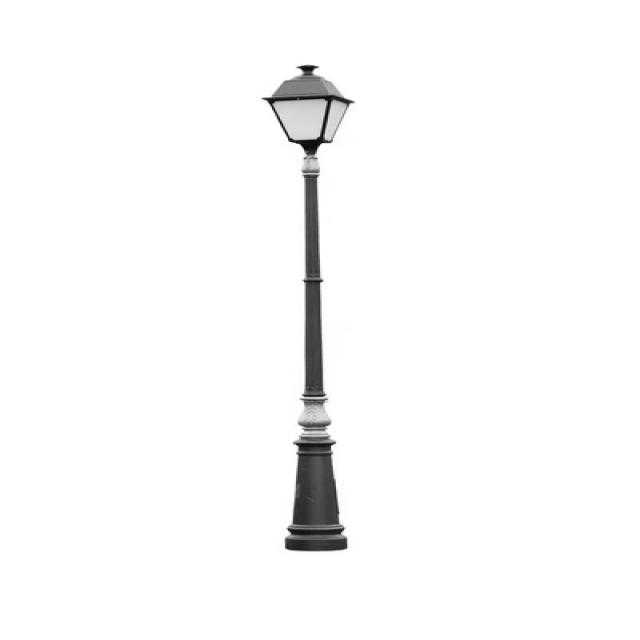Pole: (266, 65, 350, 552)
